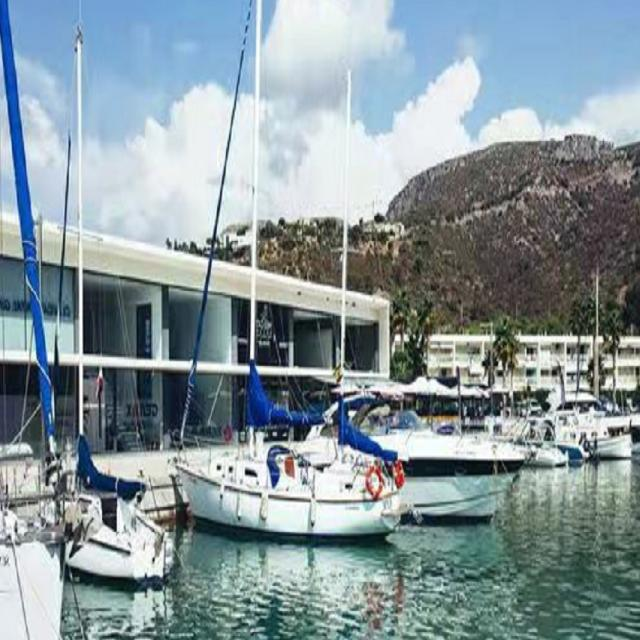houseboat: (179, 363, 412, 550)
